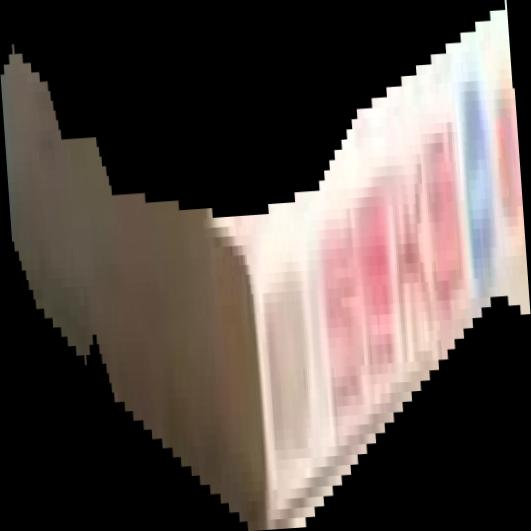flat: (1, 1, 531, 531)
